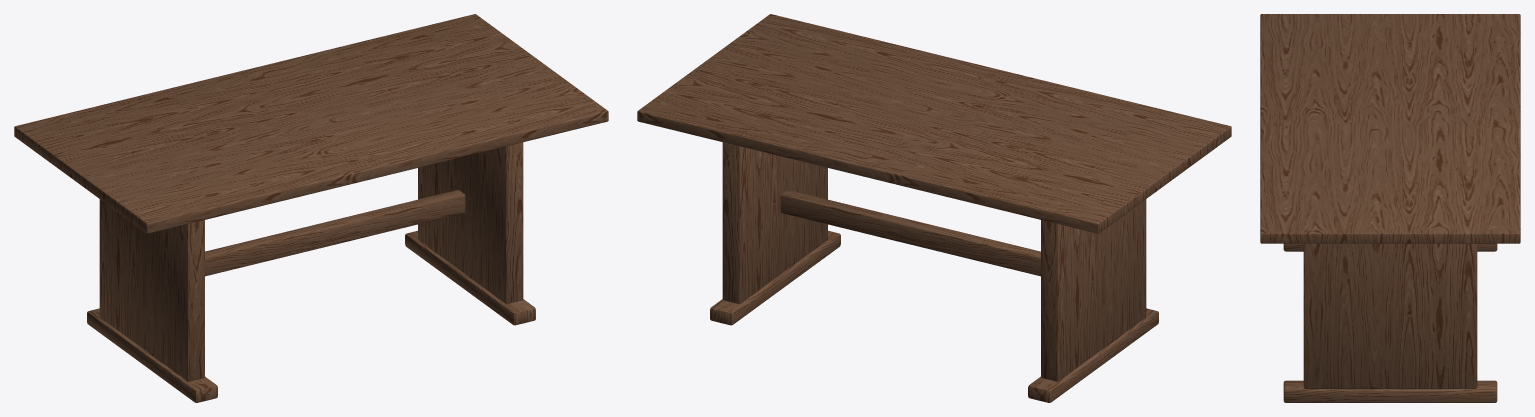
The model's file is mesa_comedor_nogal_180.glb.
The picture shows the model from 3 angles, left to right: view 1: azimuth 30°, elevation 25°; view 2: azimuth 150°, elevation 25°; view 3: azimuth 270°, elevation 25°; orthographic projection. The views are drawn at different scales.
Parts seen in each view (by area): view 1: mesa_comedor_nogal_180; view 2: mesa_comedor_nogal_180; view 3: mesa_comedor_nogal_180.
Boxes of the visible parts, x1,y1,x2,y2 form: mesa_comedor_nogal_180: [14, 14, 608, 402]; mesa_comedor_nogal_180: [637, 14, 1231, 402]; mesa_comedor_nogal_180: [1260, 14, 1520, 402].
Bounding box in the file's own units: 1.8 × 0.7599 × 0.9001.
Materials: 1 (1 with a texture image).
